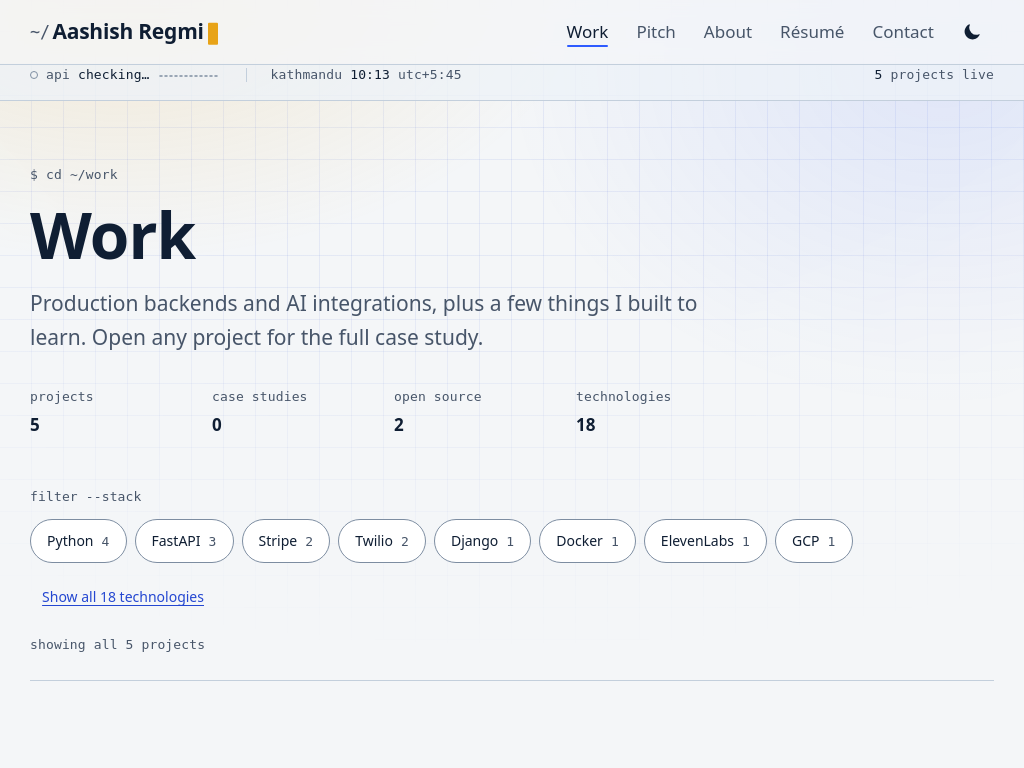
Test: /work filters › filters by a technology and records it in the URL
Click the button "Django 1".
click(483, 541)  # box [434,519,531,563]
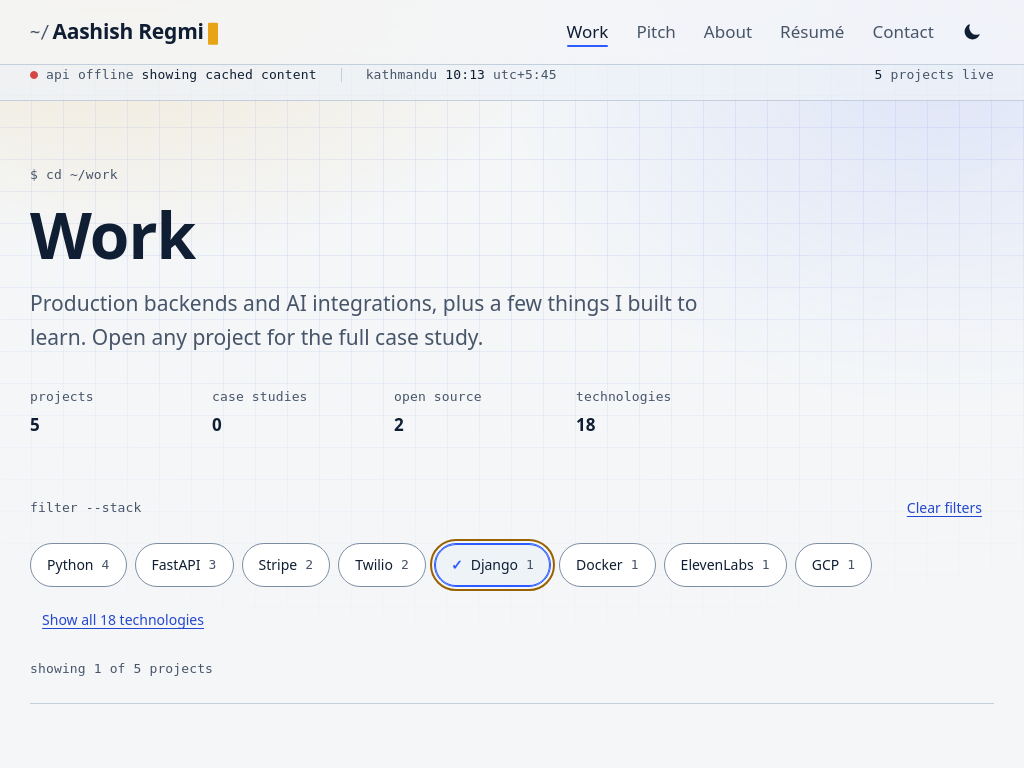
Expected: the message reads "showing 1 of 5 projects", [30,661,213,676]
